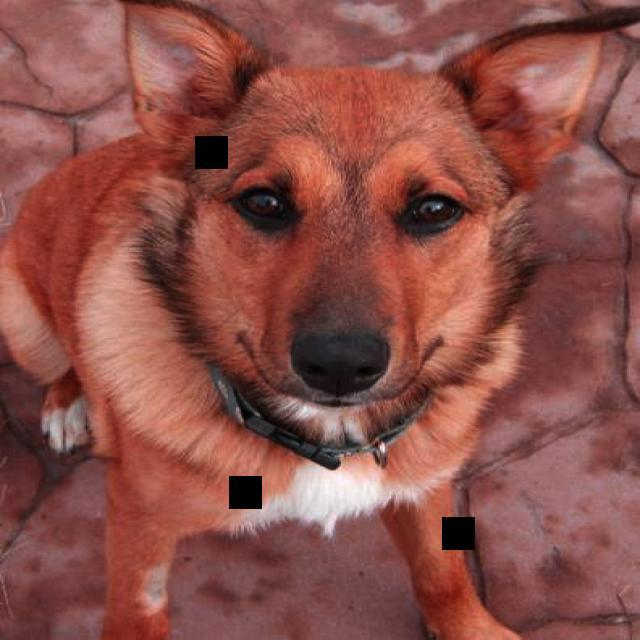adult_dog: (2, 1, 632, 634)
